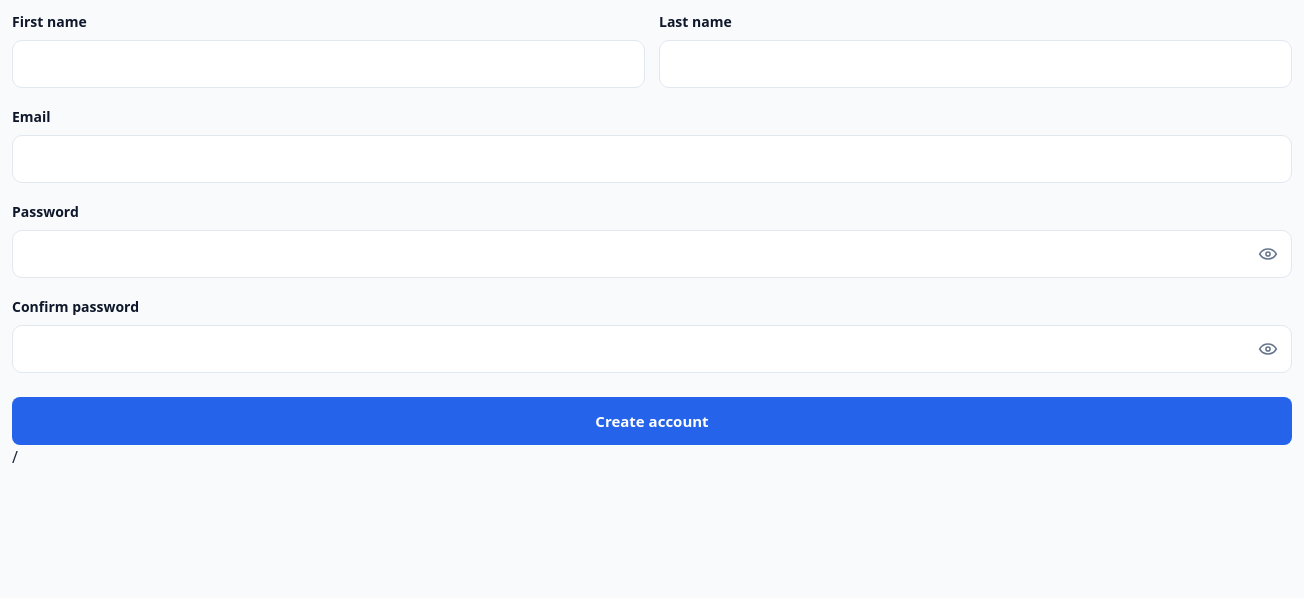
Test: RegisterForm › shows a validation error for an invalid email
Type "not-an-email" into the field labelled "Email" at [652, 159], box [12,135,1292,183]
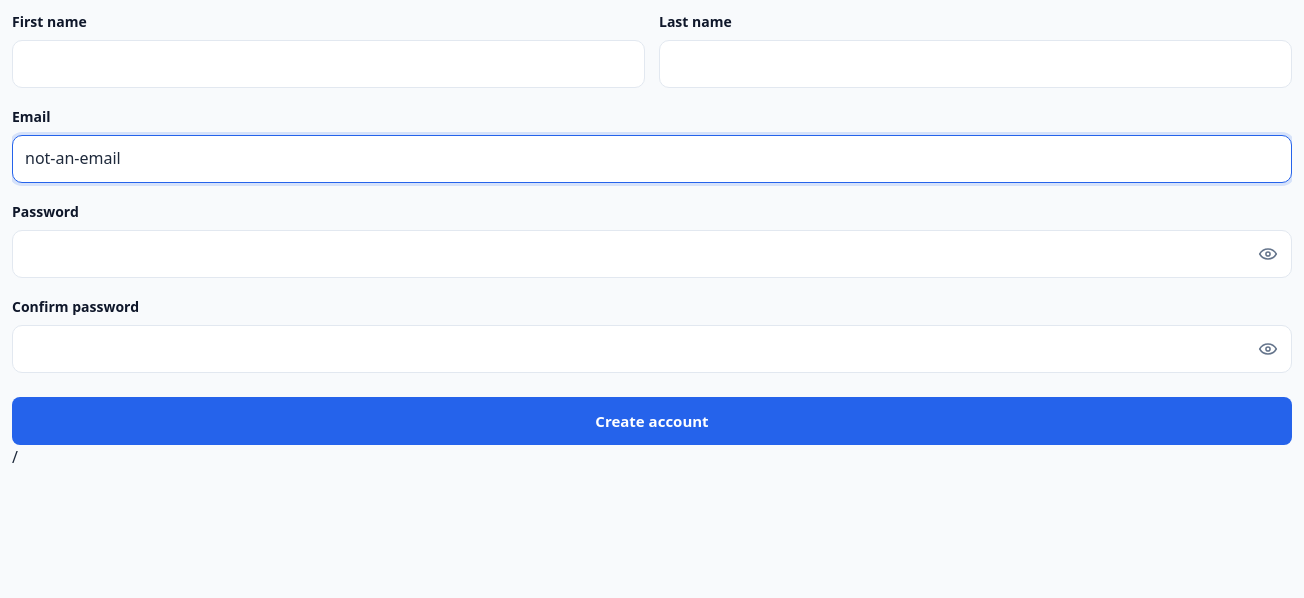
Click the button "Create account" at [652, 421], box [12,397,1292,445]
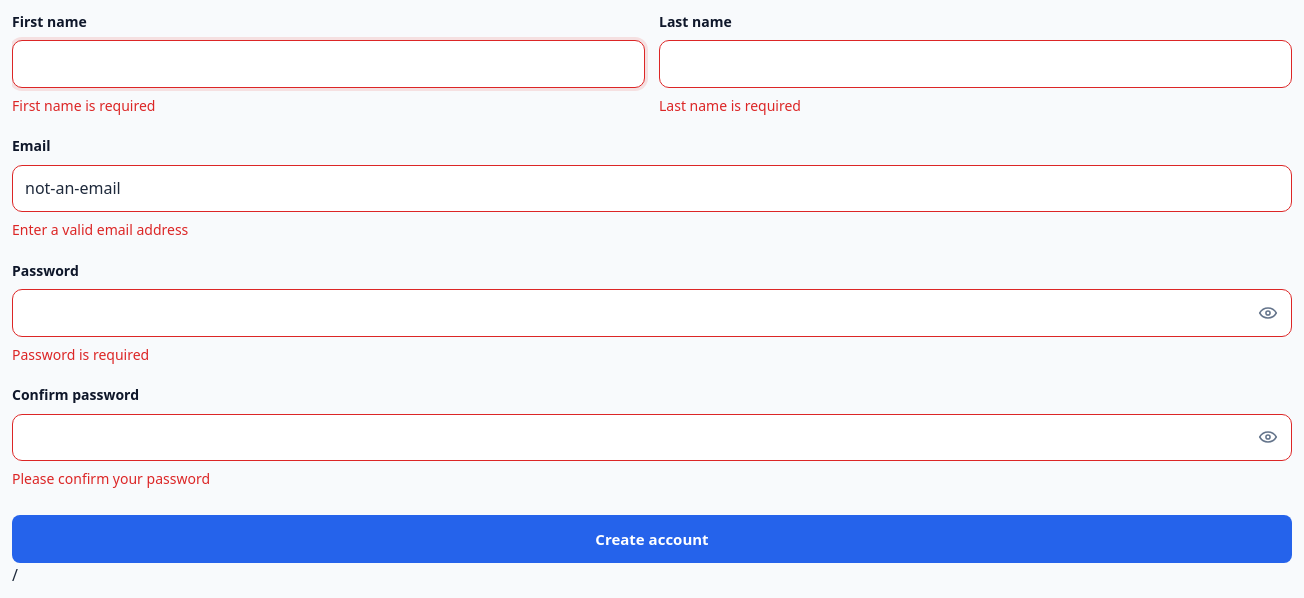
expect the text "Enter a valid email address" is shown: met, box [12,220,188,239]
